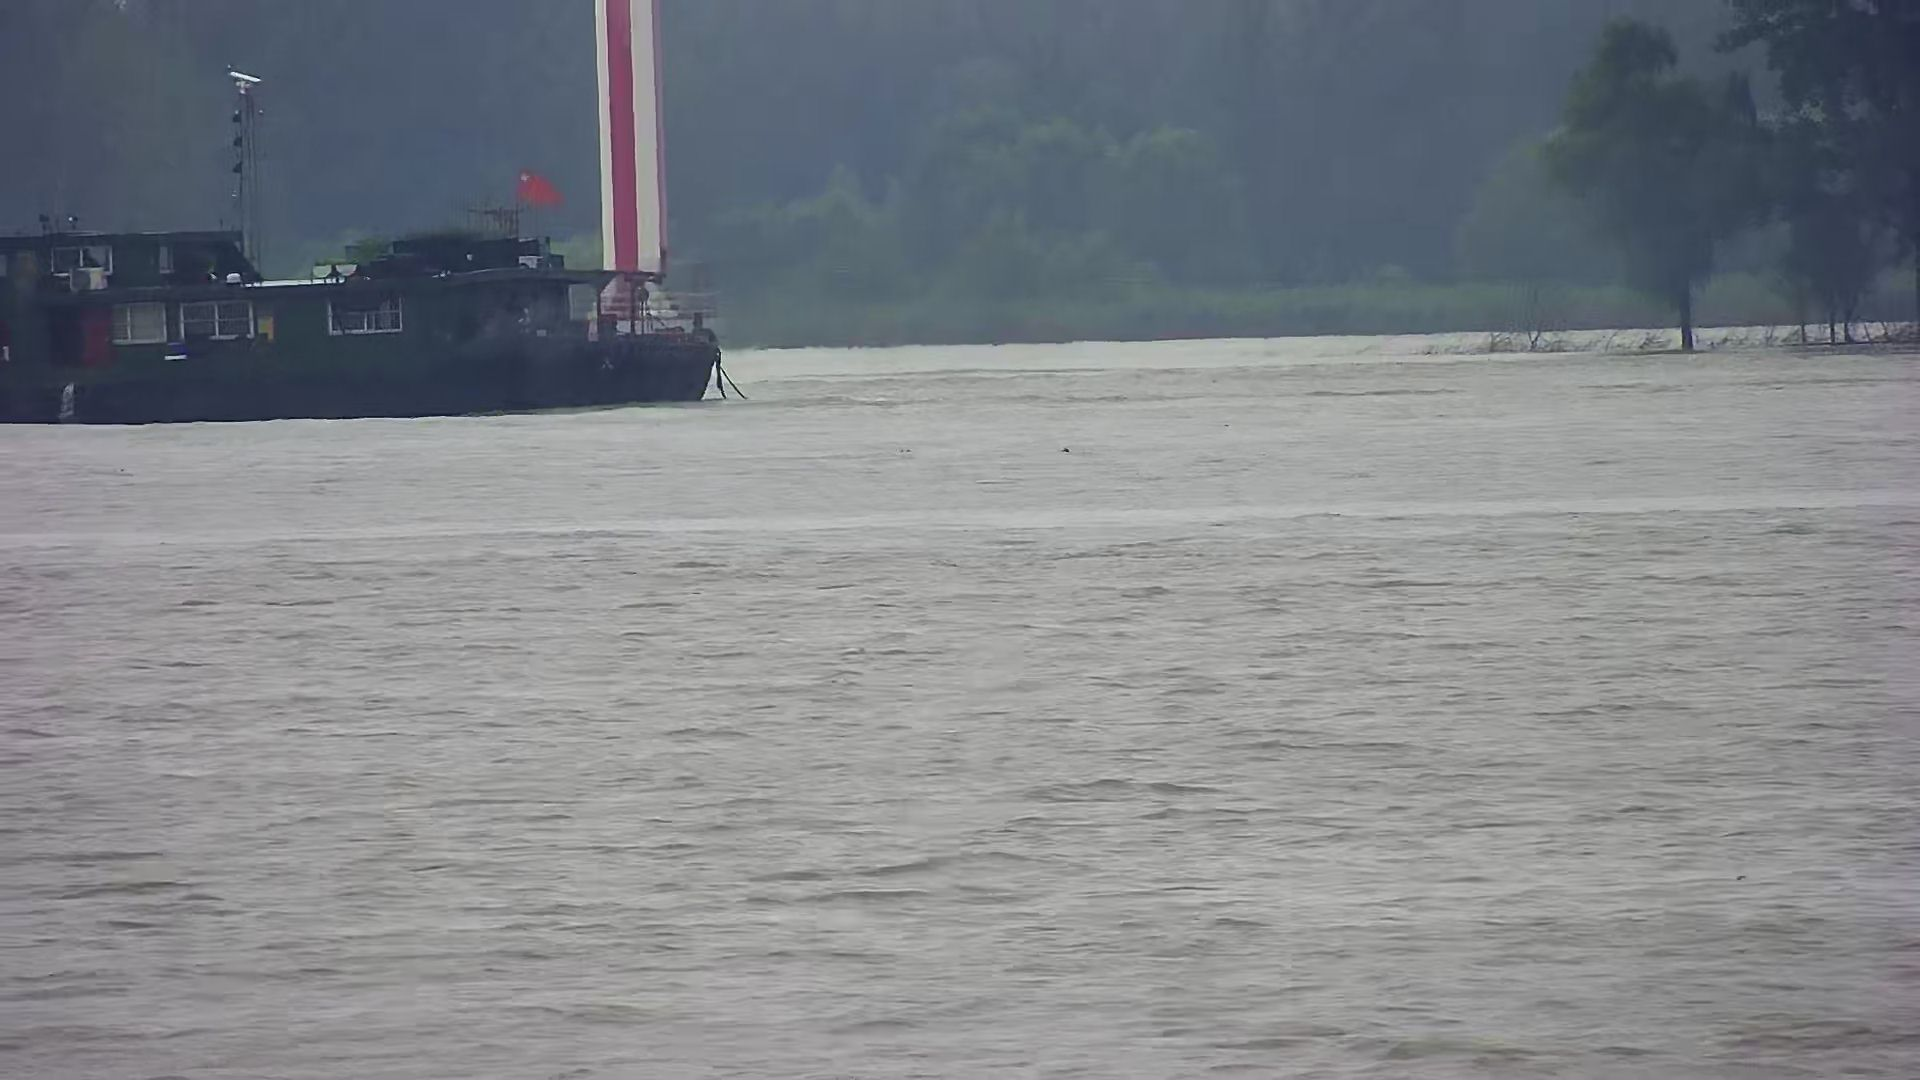platform: (568, 1, 711, 338)
ship: (1, 196, 723, 425)
tree: (1539, 15, 1774, 353), (1718, 3, 1920, 348)
